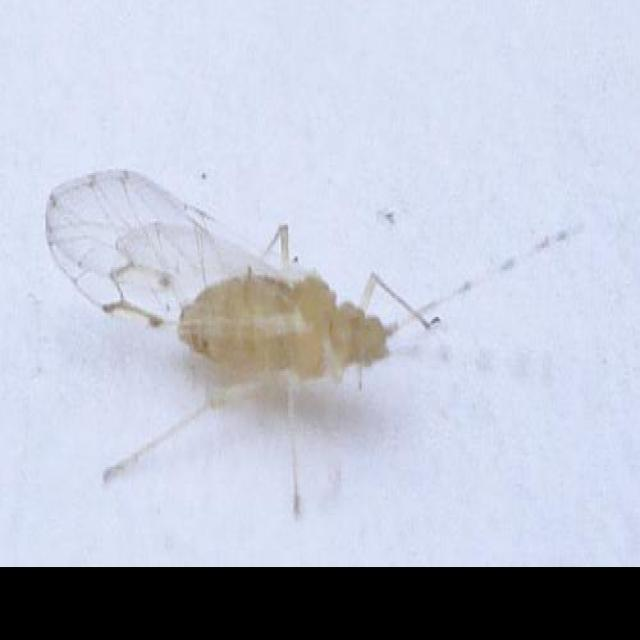Aphids: (33, 124, 522, 501)
